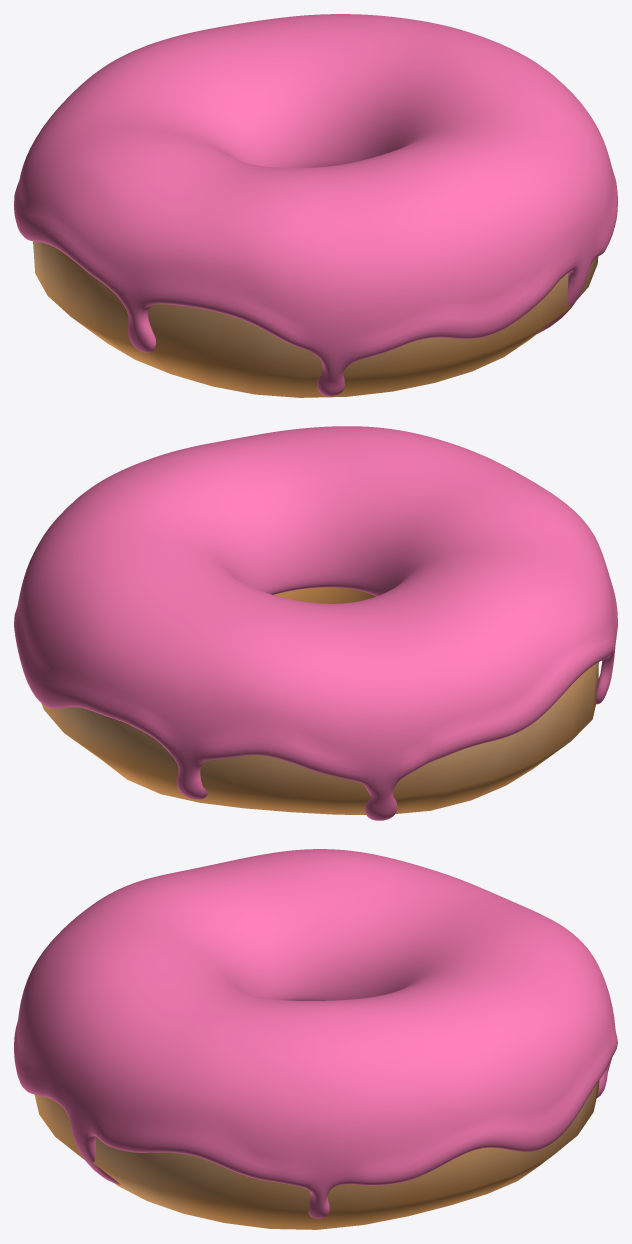
Rendered from donut.gltf.
The picture shows the model from 3 angles, top to bottom: view 1: azimuth 30°, elevation 25°; view 2: azimuth 150°, elevation 25°; view 3: azimuth 270°, elevation 25°; orthographic projection.
Visible parts, largest first — view 1: Icing001, Donut001; view 2: Icing001, Donut001; view 3: Icing001, Donut001.
Boxes of the visible parts, x1,y1,x2,y2 form: Icing001: (14, 14, 617, 396); Donut001: (33, 241, 598, 397); Icing001: (14, 426, 617, 820); Donut001: (41, 587, 598, 814); Icing001: (14, 849, 617, 1218); Donut001: (34, 1080, 599, 1229).
Size of the model in its own units: 0.3824 by 0.1533 by 0.3836.
2 materials, 1 textured.
